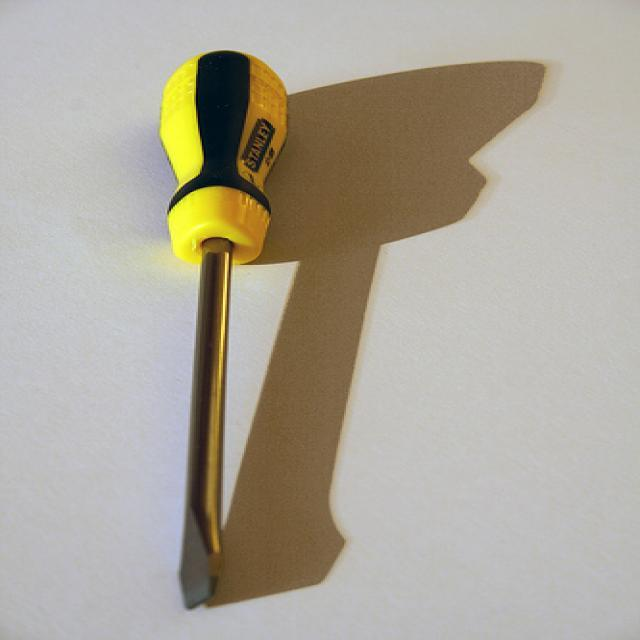screwdriver: (123, 41, 313, 617)
